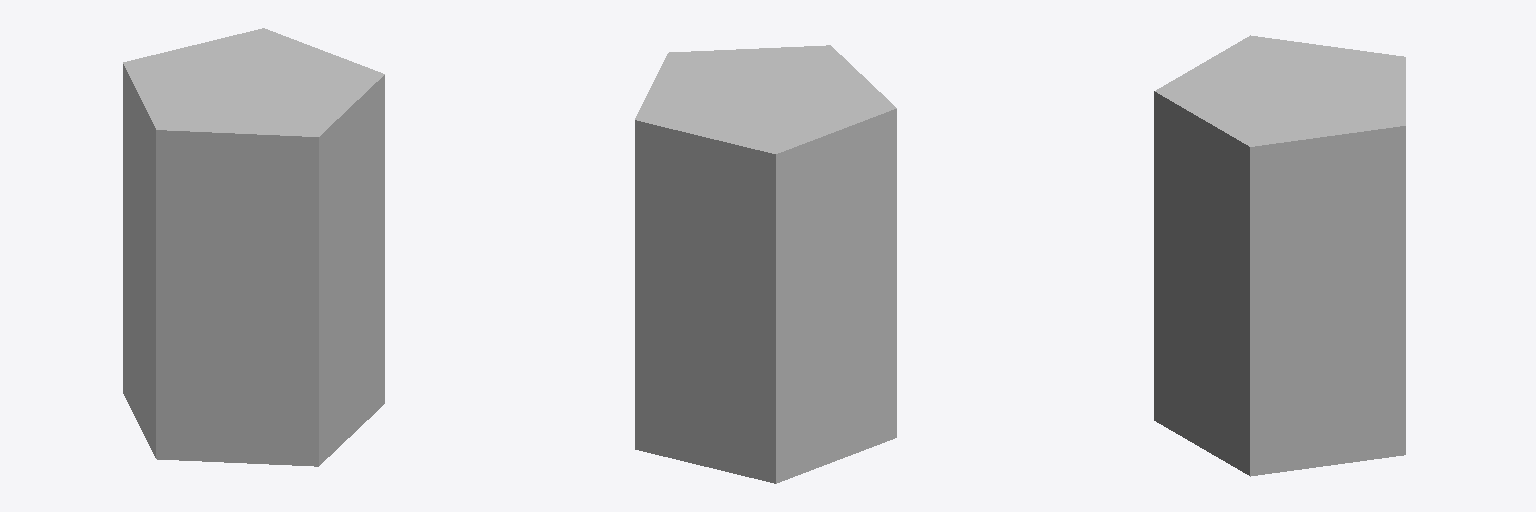
Rendered from isocol.obj.
3 renders of one model, left to right at view 1: azimuth 30°, elevation 25°; view 2: azimuth 150°, elevation 25°; view 3: azimuth 270°, elevation 25°, orthographic.
Bounding box in the file's own units: 0.7265 × 1 × 0.691.